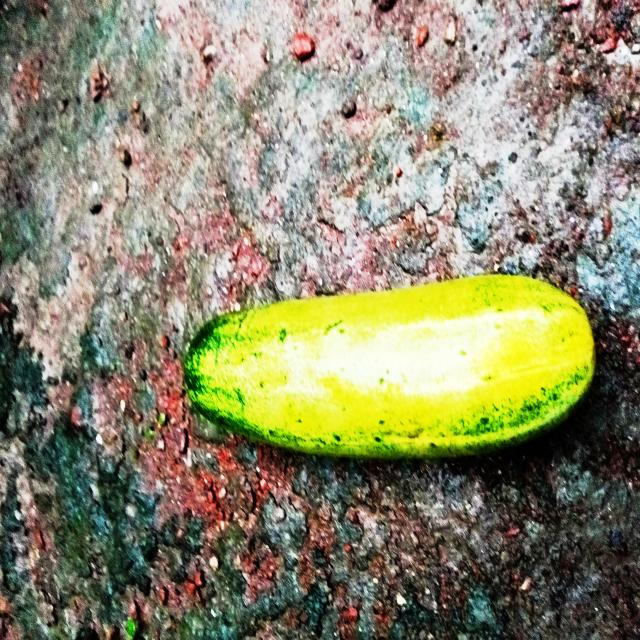Fresh-Cucumber: (183, 269, 597, 467)
